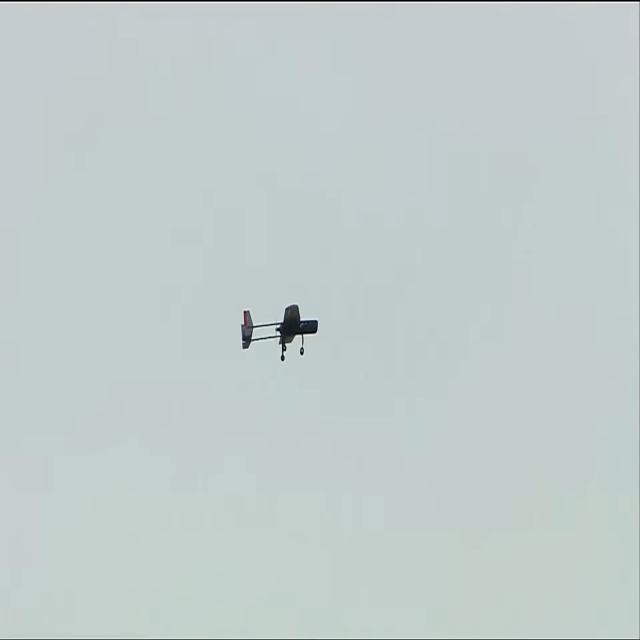iha: (274, 306, 286, 361)
